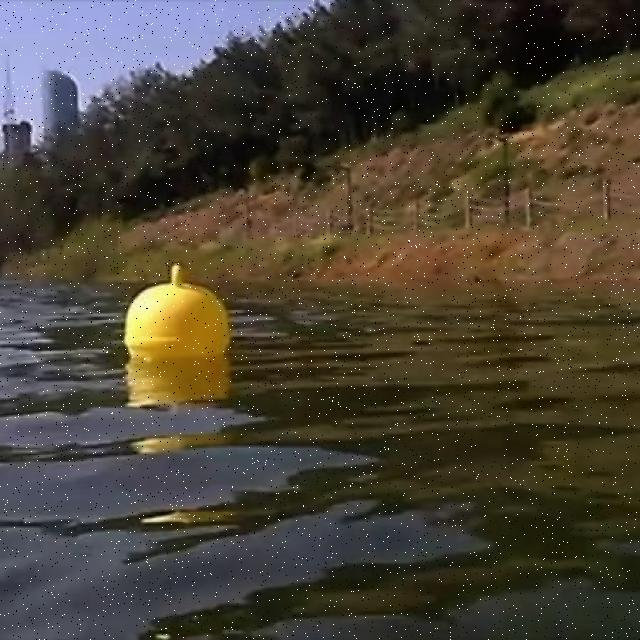buoy: (122, 263, 234, 354)
